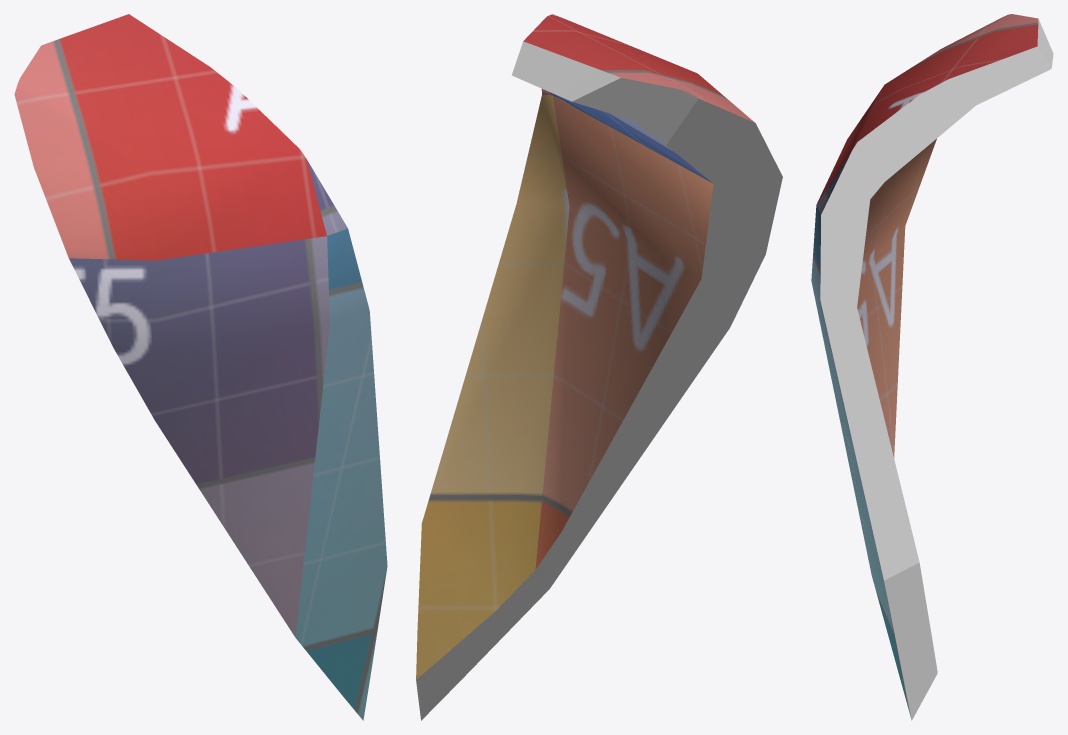
File: MediumVase_SHAT_cell_018.fbx
3 views of the same model, side by side, from view 1: azimuth 30°, elevation 25°; view 2: azimuth 150°, elevation 25°; view 3: azimuth 270°, elevation 25° (orthographic). The views are drawn at different scales.
Visible parts, largest first — view 1: MediumVase_SHAT_cell_018; view 2: MediumVase_SHAT_cell_018; view 3: MediumVase_SHAT_cell_018.
Part boxes in pixels (x1,y1,x2,y2): MediumVase_SHAT_cell_018: (14,14,387,720); MediumVase_SHAT_cell_018: (416,14,782,720); MediumVase_SHAT_cell_018: (811,14,1053,720).
Bounding box in the file's own units: 0.4335 × 0.8953 × 0.3247.
Materials: 2 (1 with a texture image).
